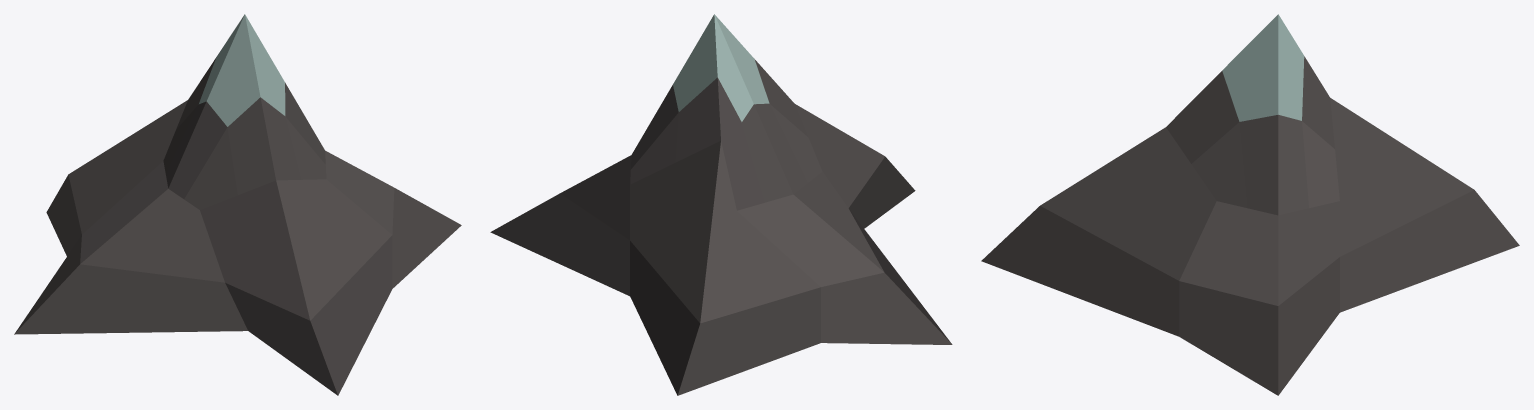
File: mountain_model.fbx
3 views of the same model, side by side, from view 1: azimuth 30°, elevation 25°; view 2: azimuth 150°, elevation 25°; view 3: azimuth 270°, elevation 25° (orthographic). The views are drawn at different scales.
Parts seen in each view (by area): view 1: pCube17; view 2: pCube17; view 3: pCube17.
Part boxes in pixels (x1=…): pCube17: x1=14, y1=14, x2=461, y2=395; pCube17: x1=490, y1=14, x2=952, y2=395; pCube17: x1=981, y1=14, x2=1519, y2=395.
Bounding box in the file's own units: 4.33 × 2.44 × 4.38.
